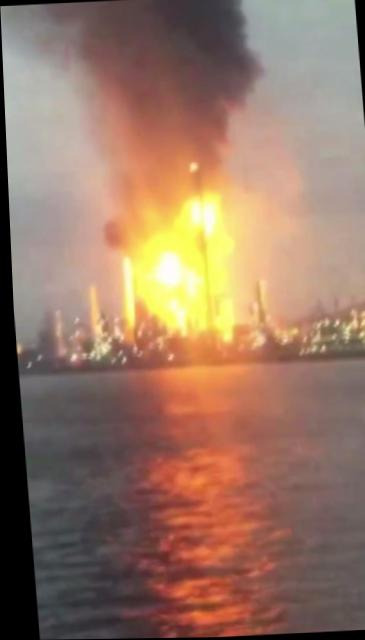fire: (124, 194, 234, 341)
